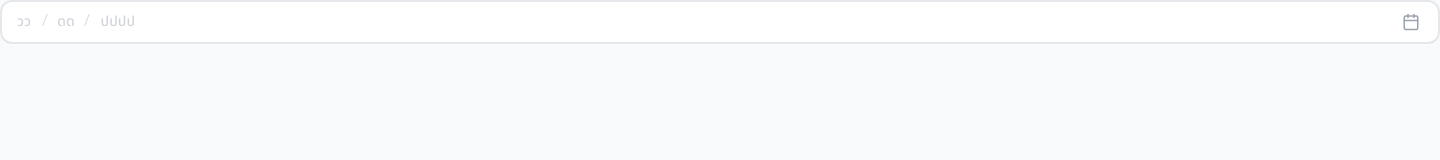
Test case: CalendarPickerTH › rejects an out-of-range พ.ศ. year with a Thai error
The image size is (1440, 160).
Type "15" into the field named "วันที่". click: (24, 22)
box: [6,6,42,38]
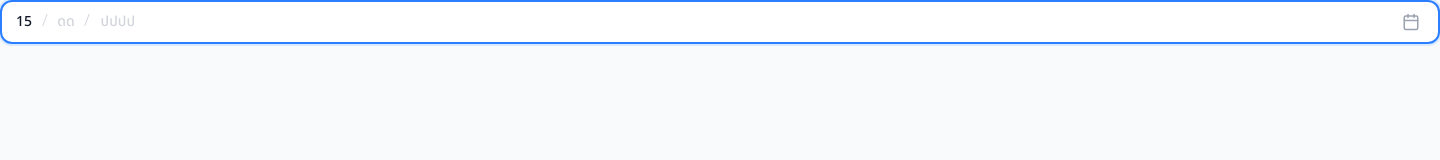
Type "01" into the field named "เดือน". click: (66, 22)
box: [48,6,84,38]
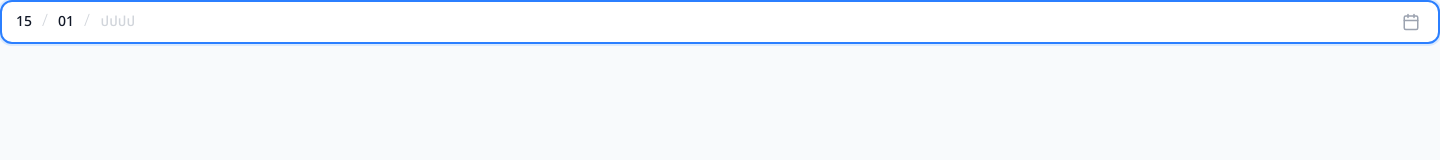
Type "1000" into the field named "ปี พ.ศ.". click: (118, 22)
box: [90,6,146,38]
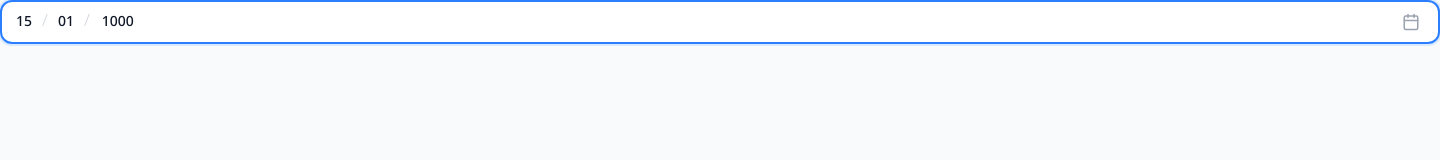
Leave the field named "ปี พ.ศ.", box [90,6,146,38]
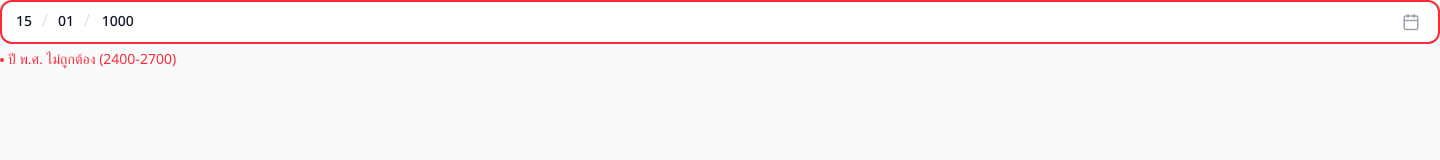
Expected: the text "ปี พ.ศ. ไม่ถูกต้อง (2400-2700)" is shown, [0,49,176,70]
